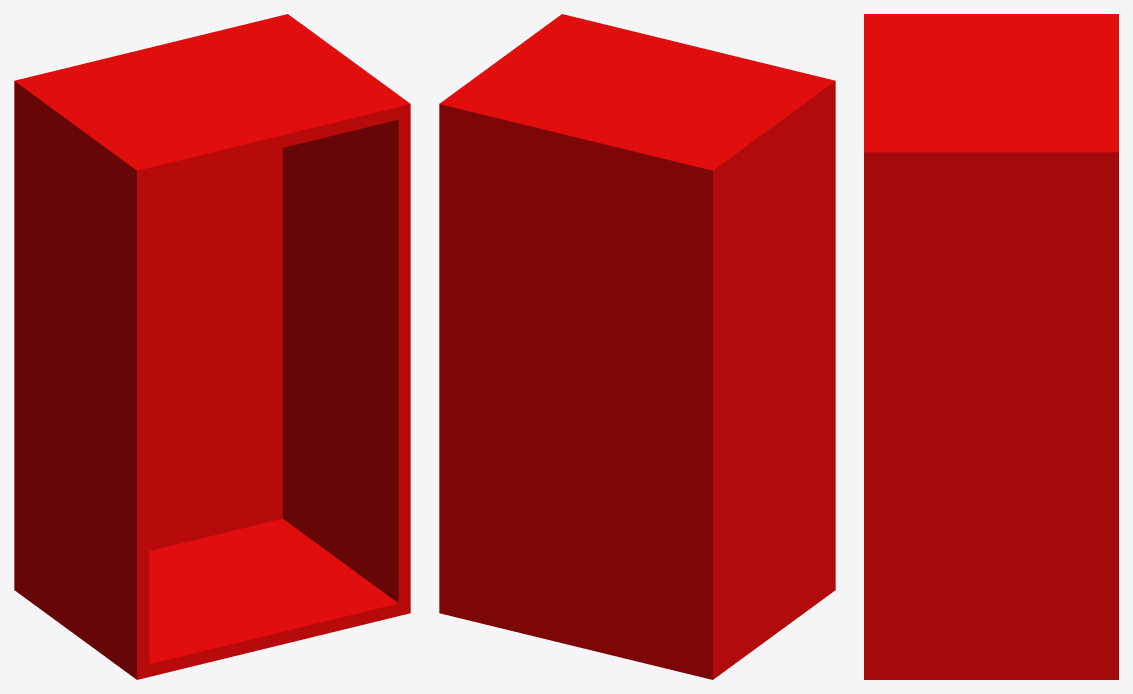
File: CajaExtintor.fbx
3 renders of one model, left to right at view 1: azimuth 30°, elevation 25°; view 2: azimuth 150°, elevation 25°; view 3: azimuth 270°, elevation 25°, orthographic. The views are drawn at different scales.
Parts seen in each view (by area): view 1: CajaExtintor; view 2: CajaExtintor; view 3: CajaExtintor.
Part boxes in pixels (bbox=[...]): CajaExtintor: bbox=[14, 14, 410, 679]; CajaExtintor: bbox=[439, 14, 835, 679]; CajaExtintor: bbox=[864, 14, 1118, 679].
Bounding box in the file's own units: 45 × 80 × 35.
